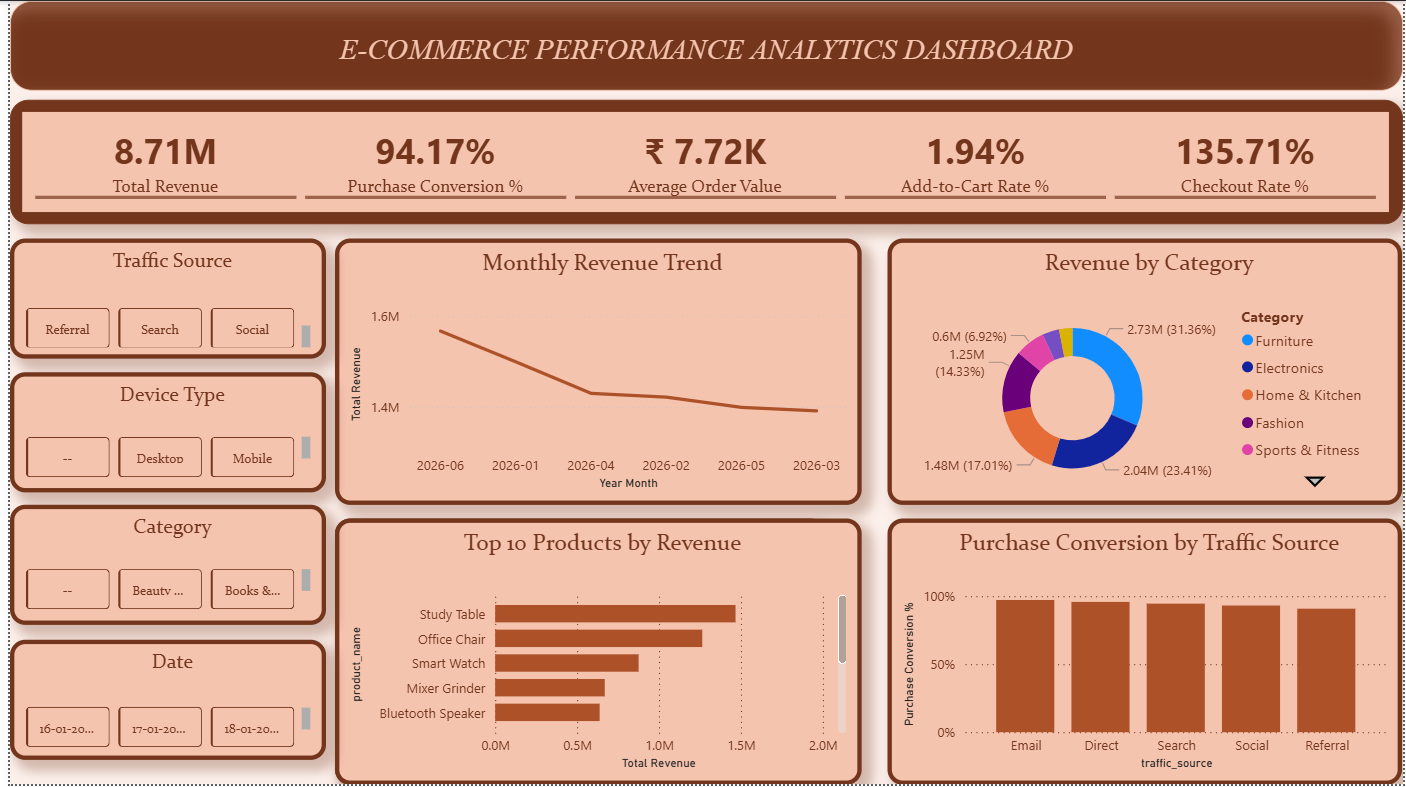

This screenshot's page, from the dashboard's own definition file:
{"tool":"powerbi","page":{"name":"Page 1","canvas":[1280,720],"ordinal":0},"visuals":[{"type":"textbox","box":[0,0,1280.2,82.6],"z":0},{"type":"cardVisual","fields":{"Data":["KPL.Total Revenue","KPL.Purchase Conversion %","KPL.Average Order Value","KPL.Add-to-Cart Rate %","KPL.Checkout Rate %"]},"box":[0,90.7,1280.2,114],"z":1000},{"type":"lineChart","title":"Monthly Revenue Trend","fields":{"Category":["Calendar.Year Month"],"Y":["KPL.Total Revenue"]},"box":[299,218.5,483.9,245],"z":2000},{"type":"donutChart","title":"Revenue by Category","fields":{"Category":["Orders csv.category"],"Y":["KPL.Total Revenue"]},"box":[806.9,218.5,473.1,245],"z":3000},{"type":"clusteredBarChart","title":"Top 10 Products by Revenue","fields":{"Category":["Orders csv.product_name"],"Y":["KPL.Total Revenue"]},"box":[299,475.5,451.5,245],"z":4000},{"type":"clusteredBarChart","title":"Top 10 Products by Revenue","fields":{"Category":["Orders csv.product_name"],"Y":["KPL.Total Revenue"]},"box":[299,475.5,483.9,245],"z":5000},{"type":"clusteredColumnChart","title":"Purchase Conversion by Traffic Source","fields":{"Y":["KPL.Purchase Conversion %"],"Category":["Events csv.traffic_source"]},"box":[806.9,475.5,473.1,245],"z":6000},{"type":"advancedSlicerVisual","title":"Traffic Source","fields":{"Values":["Events csv.traffic_source"]},"box":[0,218.5,290.6,110.5],"z":7000},{"type":"advancedSlicerVisual","title":"Device Type","fields":{"Values":["Events csv.device_type"]},"box":[0,341,290.6,110.5],"z":8000},{"type":"advancedSlicerVisual","title":"Category","fields":{"Values":["Events csv.category"]},"box":[0,463.5,290.6,110.5],"z":9000},{"type":"advancedSlicerVisual","title":"Date","fields":{"Values":["Calendar.Date"]},"box":[0,587.2,290.6,110.5],"z":10000}]}

Visuals, with their boxes in screenshot pixels (x1, y1, x2, y2), scaled from the page's 1280x720 canvas onto the 1406x787 screenshot:
textbox: [0, 0, 1405, 90]
cardVisual - KPL.Total Revenue x KPL.Purchase Conversion %: [0, 99, 1405, 224]
"Monthly Revenue Trend" lineChart: [328, 239, 860, 507]
"Revenue by Category" donutChart: [886, 239, 1405, 507]
"Top 10 Products by Revenue" clusteredBarChart: [328, 520, 824, 786]
"Top 10 Products by Revenue" clusteredBarChart: [328, 520, 860, 786]
"Purchase Conversion by Traffic Source" clusteredColumnChart: [886, 520, 1405, 786]
"Traffic Source" advancedSlicerVisual: [0, 239, 319, 360]
"Device Type" advancedSlicerVisual: [0, 373, 319, 494]
"Category" advancedSlicerVisual: [0, 507, 319, 627]
"Date" advancedSlicerVisual: [0, 642, 319, 763]
